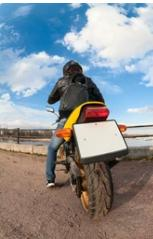rear: (72, 101, 123, 224)
